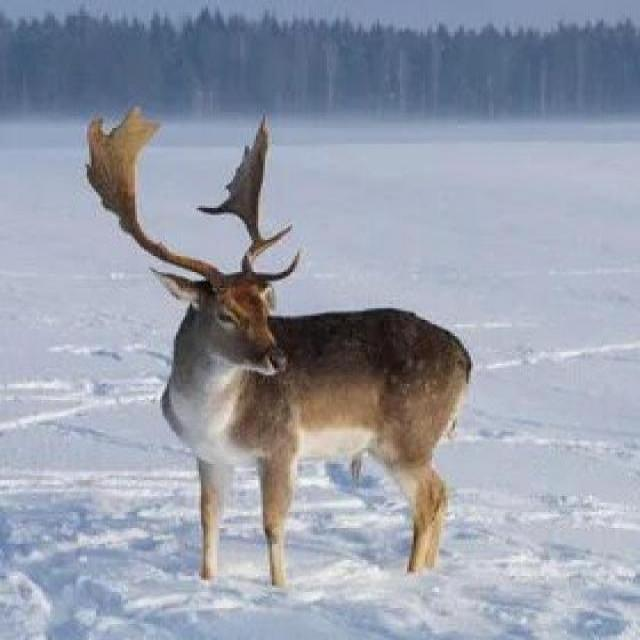deer: (39, 117, 492, 588)
